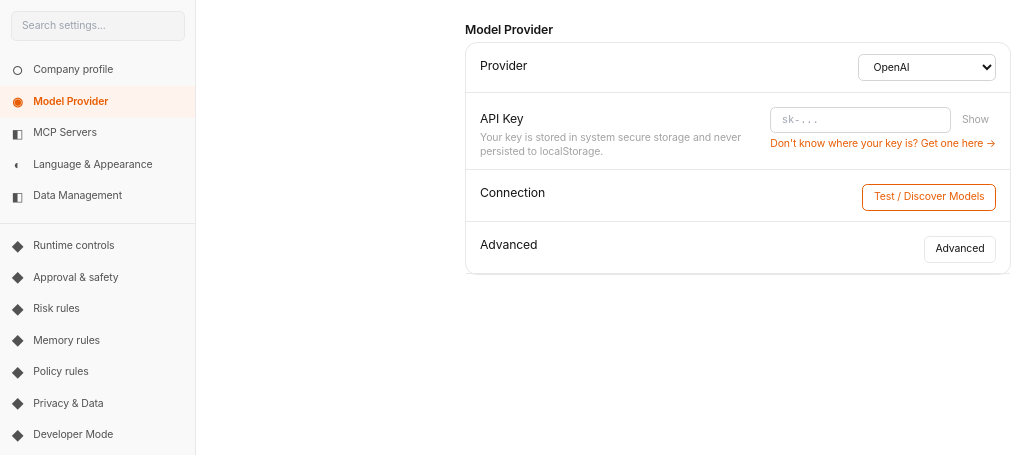
Test: Desktop onboarding › does not mark the model provider configured when test connection fails
Step 1. Click the button "Test / Discover Models" → (929, 197), box [862,184,996,211]
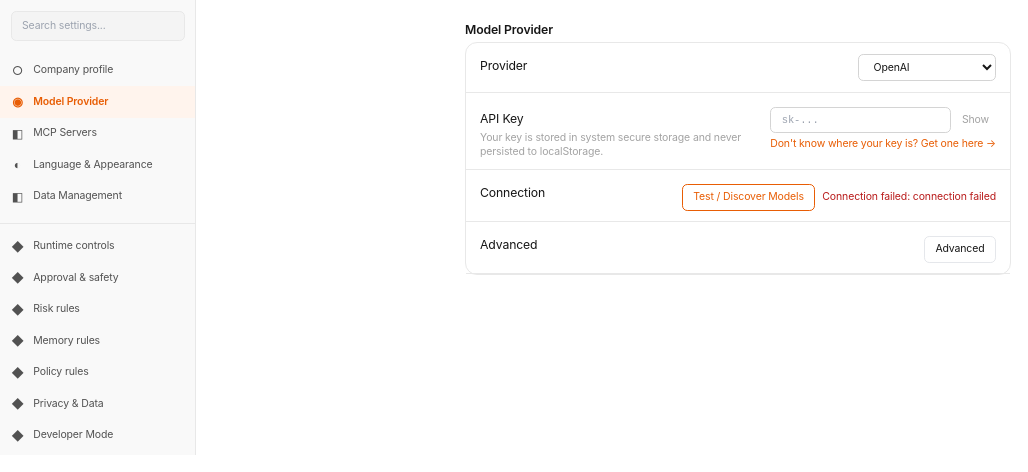
Expected: the text "Connection failed: connection failed" is shown, [822,190,996,204]
